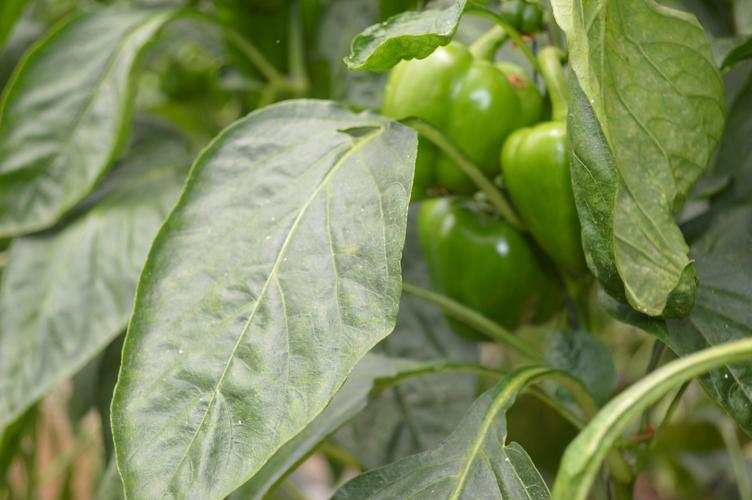BellPepper: (416, 193, 571, 337), (381, 44, 531, 189), (506, 126, 591, 278)
